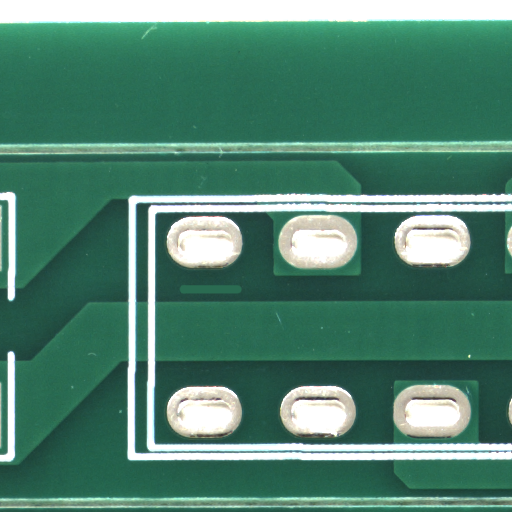Spurious_copper: (209, 288, 270, 302)
